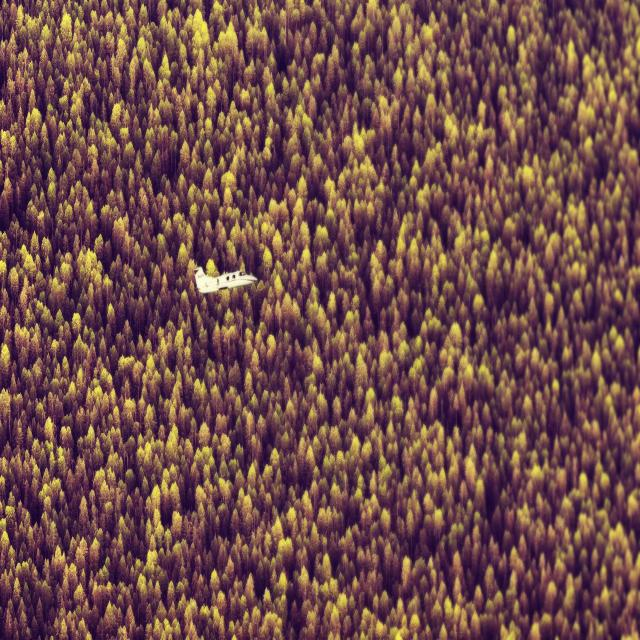airplane: (193, 265, 257, 294)
